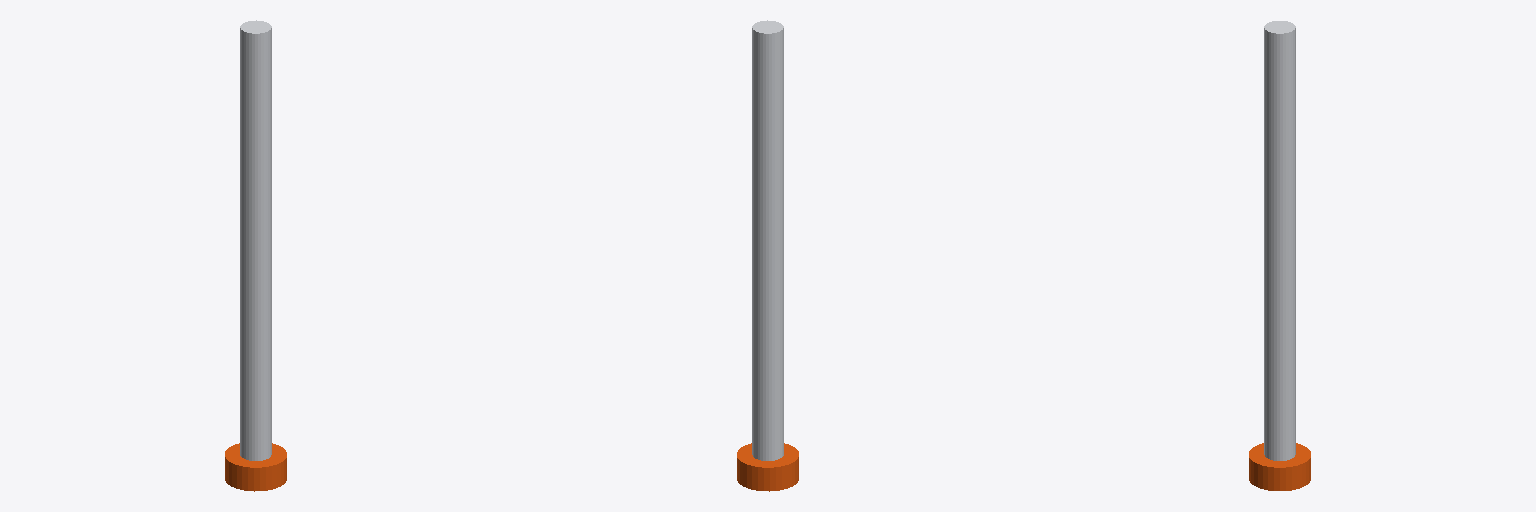
robot.urdf — arm_6dof:
<?xml version="1.0" ?>
<!-- Generated by Robot Studio 1.0.0 from the 'arm' template (Serial arm (N revolute joints)).
     Parameters are xacro properties below; sensors are switched with arguments, e.g.
       xacro arm_6dof.urdf.xacro use_lidar:=false
     Software-generated: check masses, dimensions and limits against the real robot. -->
<robot name="arm_6dof">
  <material name="arm">
    <color rgba="0.86 0.87 0.89 1"/>
  </material>
  <material name="joint">
    <color rgba="0.92 0.42 0.12 1"/>
  </material>
  <material name="sensor">
    <color rgba="0.08 0.08 0.09 1"/>
  </material>
  <!-- A massless root fixed to the world (KDL ignores the inertia of a root link). -->
  <link name="world"/>
  <link name="base_link">
    <inertial>
      <origin rpy="0 0 0" xyz="0 0 0.025"/>
      <mass value="1"/>
      <inertia ixx="0.0011083333333333333" ixy="0" ixz="0" iyy="0.0011083333333333333" iyz="0" izz="0.0018"/>
    </inertial>
    <visual>
      <origin rpy="0 0 0" xyz="0 0 0.025"/>
      <geometry>
        <cylinder length="0.05" radius="0.06"/>
      </geometry>
      <material name="joint"/>
    </visual>
    <collision>
      <origin rpy="0 0 0" xyz="0 0 0.025"/>
      <geometry>
        <cylinder length="0.05" radius="0.06"/>
      </geometry>
    </collision>
  </link>
  <joint name="world_joint" type="fixed">
    <parent link="world"/>
    <child link="base_link"/>
    <origin rpy="0 0 0" xyz="0 0 0"/>
  </joint>
  <link name="link_1">
    <inertial>
      <origin rpy="0 0 0" xyz="0 0 0.075"/>
      <mass value="0.5"/>
      <inertia ixx="0.00105" ixy="0" ixz="0" iyy="0.00105" iyz="0" izz="0.000225"/>
    </inertial>
    <visual>
      <origin rpy="0 0 0" xyz="0 0 0.075"/>
      <geometry>
        <cylinder length="0.15" radius="0.03"/>
      </geometry>
      <material name="arm"/>
    </visual>
    <collision>
      <origin rpy="0 0 0" xyz="0 0 0.075"/>
      <geometry>
        <cylinder length="0.15" radius="0.03"/>
      </geometry>
    </collision>
  </link>
  <joint name="joint_1" type="revolute">
    <parent link="base_link"/>
    <child link="link_1"/>
    <origin rpy="0 0 0" xyz="0 0 0.05"/>
    <axis xyz="0 0 1"/>
    <limit effort="20" lower="-2.9" upper="2.9" velocity="2"/>
  </joint>
  <link name="link_2">
    <inertial>
      <origin rpy="0 0 0" xyz="0 0 0.075"/>
      <mass value="0.5"/>
      <inertia ixx="0.00105" ixy="0" ixz="0" iyy="0.00105" iyz="0" izz="0.000225"/>
    </inertial>
    <visual>
      <origin rpy="0 0 0" xyz="0 0 0.075"/>
      <geometry>
        <cylinder length="0.15" radius="0.03"/>
      </geometry>
      <material name="arm"/>
    </visual>
    <collision>
      <origin rpy="0 0 0" xyz="0 0 0.075"/>
      <geometry>
        <cylinder length="0.15" radius="0.03"/>
      </geometry>
    </collision>
  </link>
  <joint name="joint_2" type="revolute">
    <parent link="link_1"/>
    <child link="link_2"/>
    <origin rpy="0 0 0" xyz="0 0 0.15"/>
    <axis xyz="0 1 0"/>
    <limit effort="20" lower="-2.9" upper="2.9" velocity="2"/>
  </joint>
  <link name="link_3">
    <inertial>
      <origin rpy="0 0 0" xyz="0 0 0.075"/>
      <mass value="0.5"/>
      <inertia ixx="0.00105" ixy="0" ixz="0" iyy="0.00105" iyz="0" izz="0.000225"/>
    </inertial>
    <visual>
      <origin rpy="0 0 0" xyz="0 0 0.075"/>
      <geometry>
        <cylinder length="0.15" radius="0.03"/>
      </geometry>
      <material name="arm"/>
    </visual>
    <collision>
      <origin rpy="0 0 0" xyz="0 0 0.075"/>
      <geometry>
        <cylinder length="0.15" radius="0.03"/>
      </geometry>
    </collision>
  </link>
  <joint name="joint_3" type="revolute">
    <parent link="link_2"/>
    <child link="link_3"/>
    <origin rpy="0 0 0" xyz="0 0 0.15"/>
    <axis xyz="0 1 0"/>
    <limit effort="20" lower="-2.9" upper="2.9" velocity="2"/>
  </joint>
  <link name="link_4">
    <inertial>
      <origin rpy="0 0 0" xyz="0 0 0.075"/>
      <mass value="0.5"/>
      <inertia ixx="0.00105" ixy="0" ixz="0" iyy="0.00105" iyz="0" izz="0.000225"/>
    </inertial>
    <visual>
      <origin rpy="0 0 0" xyz="0 0 0.075"/>
      <geometry>
        <cylinder length="0.15" radius="0.03"/>
      </geometry>
      <material name="arm"/>
    </visual>
    <collision>
      <origin rpy="0 0 0" xyz="0 0 0.075"/>
      <geometry>
        <cylinder length="0.15" radius="0.03"/>
      </geometry>
    </collision>
  </link>
  <joint name="joint_4" type="revolute">
    <parent link="link_3"/>
    <child link="link_4"/>
    <origin rpy="0 0 0" xyz="0 0 0.15"/>
    <axis xyz="0 0 1"/>
    <limit effort="20" lower="-2.9" upper="2.9" velocity="2"/>
  </joint>
  <link name="link_5">
    <inertial>
      <origin rpy="0 0 0" xyz="0 0 0.075"/>
      <mass value="0.5"/>
      <inertia ixx="0.00105" ixy="0" ixz="0" iyy="0.00105" iyz="0" izz="0.000225"/>
    </inertial>
    <visual>
      <origin rpy="0 0 0" xyz="0 0 0.075"/>
      <geometry>
        <cylinder length="0.15" radius="0.03"/>
      </geometry>
      <material name="arm"/>
    </visual>
    <collision>
      <origin rpy="0 0 0" xyz="0 0 0.075"/>
      <geometry>
        <cylinder length="0.15" radius="0.03"/>
      </geometry>
    </collision>
  </link>
  <joint name="joint_5" type="revolute">
    <parent link="link_4"/>
    <child link="link_5"/>
    <origin rpy="0 0 0" xyz="0 0 0.15"/>
    <axis xyz="0 1 0"/>
    <limit effort="20" lower="-2.9" upper="2.9" velocity="2"/>
  </joint>
  <link name="link_6">
    <inertial>
      <origin rpy="0 0 0" xyz="0 0 0.075"/>
      <mass value="0.5"/>
      <inertia ixx="0.00105" ixy="0" ixz="0" iyy="0.00105" iyz="0" izz="0.000225"/>
    </inertial>
    <visual>
      <origin rpy="0 0 0" xyz="0 0 0.075"/>
      <geometry>
        <cylinder length="0.15" radius="0.03"/>
      </geometry>
      <material name="arm"/>
    </visual>
    <collision>
      <origin rpy="0 0 0" xyz="0 0 0.075"/>
      <geometry>
        <cylinder length="0.15" radius="0.03"/>
      </geometry>
    </collision>
  </link>
  <joint name="joint_6" type="revolute">
    <parent link="link_5"/>
    <child link="link_6"/>
    <origin rpy="0 0 0" xyz="0 0 0.15"/>
    <axis xyz="0 0 1"/>
    <limit effort="20" lower="-2.9" upper="2.9" velocity="2"/>
  </joint>
  <link name="tool0"/>
  <joint name="tool0_joint" type="fixed">
    <parent link="link_6"/>
    <child link="tool0"/>
    <origin rpy="0 0 0" xyz="0 0 0.15"/>
  </joint>
</robot>

--- Render facts (derived) ---
The picture shows the robot from 3 angles, left to right: view 1: azimuth 30°, elevation 25°; view 2: azimuth 150°, elevation 25°; view 3: azimuth 270°, elevation 25°; orthographic projection.
Robot: arm_6dof — 9 links, 8 joints (6 revolute, 2 fixed); root link world; default pose: every joint at zero.
Links seen in each view (by area): view 1: link_6, link_3, link_2, link_1, link_5, link_4, base_link; view 2: link_6, link_3, link_2, link_1, link_5, link_4, base_link; view 3: link_6, link_3, link_2, link_5, link_1, link_4, base_link.
Boxes of the visible links, x1=… form: link_6: x1=240, y1=20, x2=271, y2=104; link_3: x1=240, y1=242, x2=271, y2=318; link_2: x1=240, y1=313, x2=271, y2=389; link_1: x1=240, y1=384, x2=271, y2=460; link_5: x1=240, y1=99, x2=271, y2=175; link_4: x1=240, y1=170, x2=271, y2=246; base_link: x1=225, y1=443, x2=286, y2=491; link_6: x1=752, y1=20, x2=783, y2=104; link_3: x1=752, y1=242, x2=783, y2=318; link_2: x1=752, y1=313, x2=783, y2=389; link_1: x1=752, y1=384, x2=783, y2=460; link_5: x1=752, y1=99, x2=783, y2=175; link_4: x1=752, y1=170, x2=783, y2=246; base_link: x1=737, y1=443, x2=798, y2=491; link_6: x1=1264, y1=21, x2=1295, y2=104; link_3: x1=1264, y1=242, x2=1295, y2=318; link_2: x1=1264, y1=313, x2=1295, y2=389; link_5: x1=1264, y1=99, x2=1295, y2=175; link_1: x1=1264, y1=384, x2=1295, y2=460; link_4: x1=1264, y1=171, x2=1295, y2=246; base_link: x1=1249, y1=443, x2=1310, y2=490.
Size in the robot's own frame: 0.12 by 0.12 by 0.95 metres.
Geometry: primitives only (box / cylinder / sphere), no mesh files.
